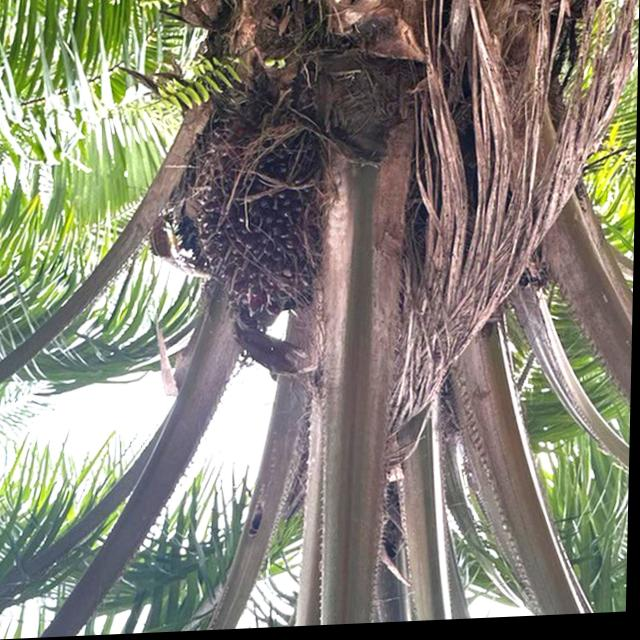ripe: (178, 126, 334, 327)
